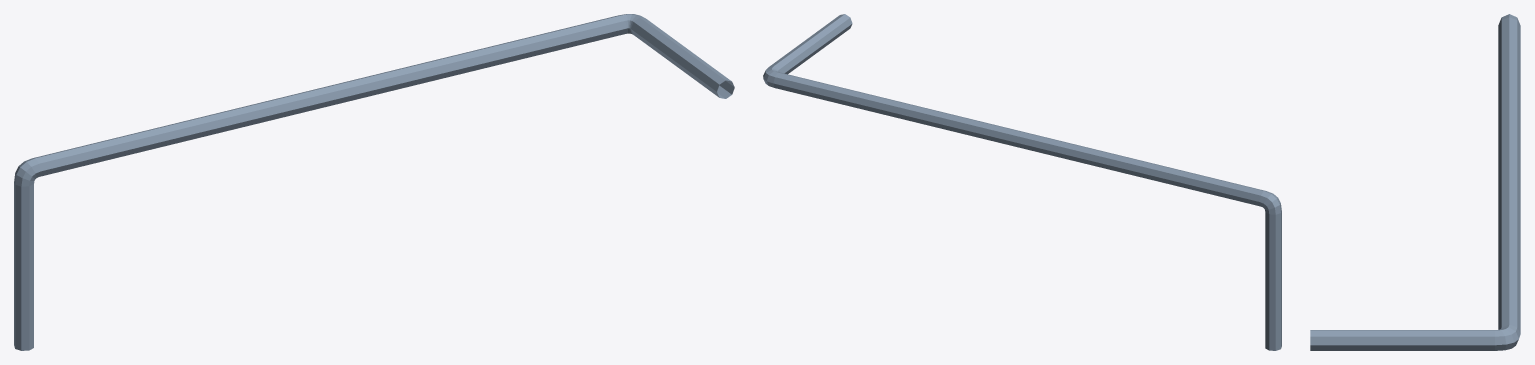
Rendered from redTube_Geo.fbx.
3 views of the same model, side by side, from view 1: azimuth 30°, elevation 25°; view 2: azimuth 150°, elevation 25°; view 3: azimuth 270°, elevation 25° (orthographic). The views are drawn at different scales.
Visible parts, largest first — view 1: redTube; view 2: redTube; view 3: redTube.
Part boxes in pixels (x1=…): redTube: x1=14, y1=14, x2=734, y2=350; redTube: x1=763, y1=14, x2=1281, y2=350; redTube: x1=1310, y1=14, x2=1520, y2=350.
Size of the model in its own units: 7000 by 1981 by 1892.
